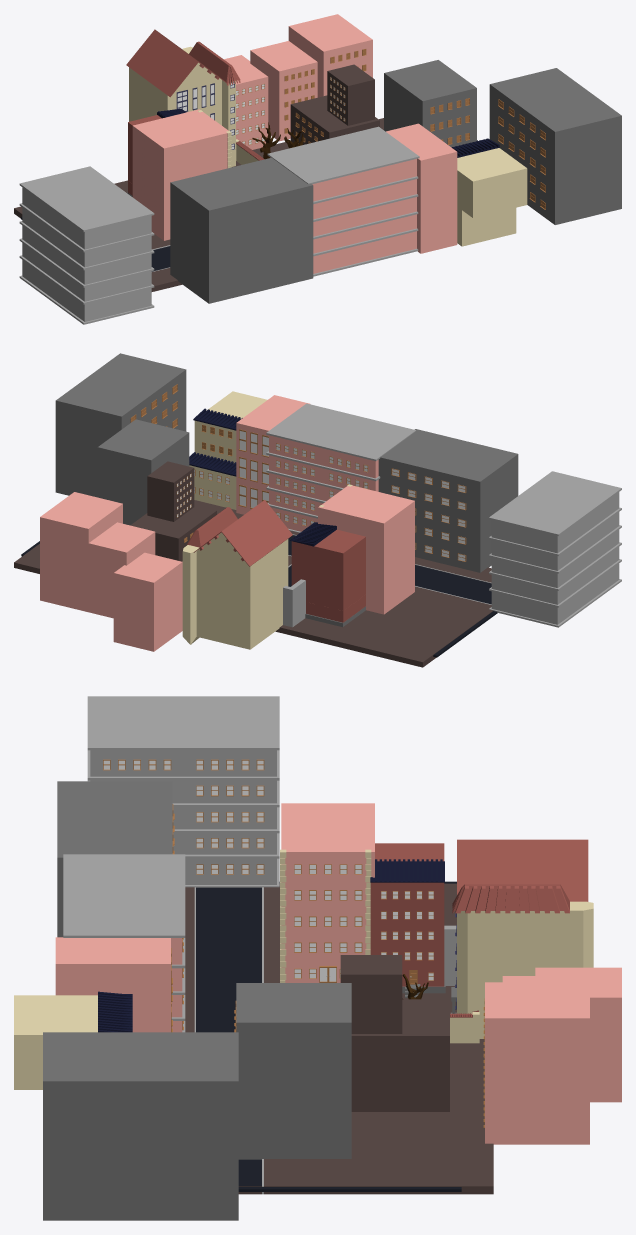
The model's file is ville_2.glb.
The picture shows the model from 3 angles, top to bottom: view 1: azimuth 30°, elevation 25°; view 2: azimuth 150°, elevation 25°; view 3: azimuth 270°, elevation 25°; orthographic projection. The views are drawn at different scales.
Parts seen in each view (by area): view 1: 1_bloc_6, 4_bloc_7, etage_6, 3_bloc_6, bloc_4, 2_bloc_6, cube 1, 3_bloc_7, 1_bloc_7, 2_bloc_7, bloc_5, bloc_3 (+11 smaller); view 2: bloc_4, etage_6, 1_bloc_6, 4_bloc_7, 3_bloc_6, bloc_3, sol, cube 1, 3_bloc_7, cube 2, 2_bloc_6, bloc_5 (+12 smaller); view 3: 4_bloc_7, etage_6, bloc_4, 3_bloc_7, sol, bloc_5, cube 1, 3_bloc_6, route, bloc_3, 1_bloc_6, 2_bloc_7 (+15 smaller).
Boxes of the visible parts, left/top/right/bottom form: 1_bloc_6: left=170, top=157, right=313, bottom=303; 4_bloc_7: left=489, top=68, right=621, bottom=224; etage_6: left=19, top=126, right=419, bottom=324; 3_bloc_6: left=22, top=187, right=151, bottom=321; bloc_4: left=224, top=14, right=372, bottom=149; 2_bloc_6: left=270, top=157, right=416, bottom=273; cube 1: left=132, top=109, right=228, bottom=240; 3_bloc_7: left=384, top=60, right=476, bottom=147; 1_bloc_7: left=457, top=148, right=527, bottom=246; 2_bloc_7: left=386, top=123, right=457, bottom=253; bloc_5: left=290, top=64, right=379, bottom=144; bloc_3: left=129, top=46, right=235, bottom=166; bloc_4: left=40, top=492, right=182, bottom=651; etage_6: left=266, top=403, right=621, bottom=627; 1_bloc_6: left=378, top=429, right=518, bottom=572; 4_bloc_7: left=55, top=353, right=186, bottom=497; 3_bloc_6: left=491, top=492, right=619, bottom=624; bloc_3: left=182, top=532, right=288, bottom=649; sol: left=14, top=500, right=492, bottom=667; cube 1: left=318, top=485, right=414, bottom=614; 3_bloc_7: left=97, top=419, right=189, bottom=525; cube 2: left=291, top=529, right=365, bottom=622; 2_bloc_6: left=269, top=435, right=378, bottom=531; bloc_5: left=130, top=461, right=216, bottom=561; 4_bloc_7: left=43, top=1032, right=238, bottom=1220; etage_6: left=63, top=696, right=279, bottom=1032; bloc_4: left=485, top=967, right=621, bottom=1144; 3_bloc_7: left=236, top=983, right=351, bottom=1159; sol: left=185, top=883, right=493, bottom=1194; bloc_5: left=340, top=955, right=449, bottom=1111; cube 1: left=281, top=803, right=374, bottom=982; 3_bloc_6: left=90, top=750, right=276, bottom=884; route: left=196, top=881, right=461, bottom=1191; bloc_3: left=457, top=901, right=593, bottom=1038; 1_bloc_6: left=57, top=781, right=172, bottom=937; 2_bloc_7: left=55, top=937, right=170, bottom=1032.
Size of the model in its own units: 78.7 by 18.37 by 52.93.
